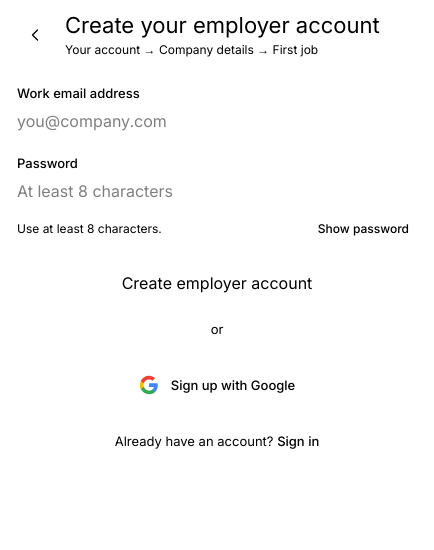
Test case: employer account signup › recovers from a network failure without leaving signup disabled
In the field labelled "Work email address": (134, 121) [17, 109, 251, 133], type "owner@example.com"
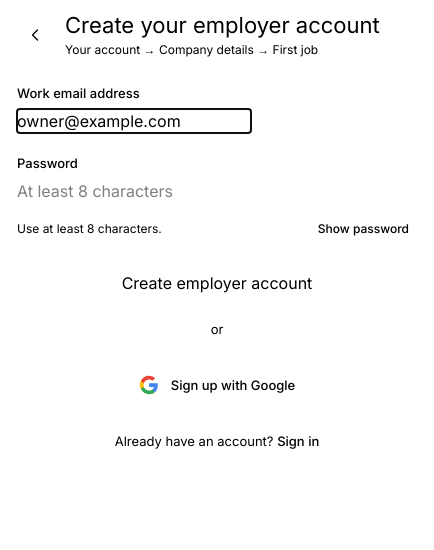
In the password field labelled "Password": (134, 191) [17, 179, 251, 203], type "secure-password"
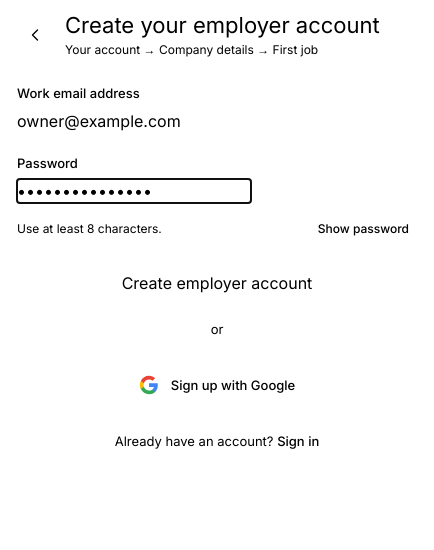
Click the button "Create employer account": (217, 283) [17, 271, 417, 295]
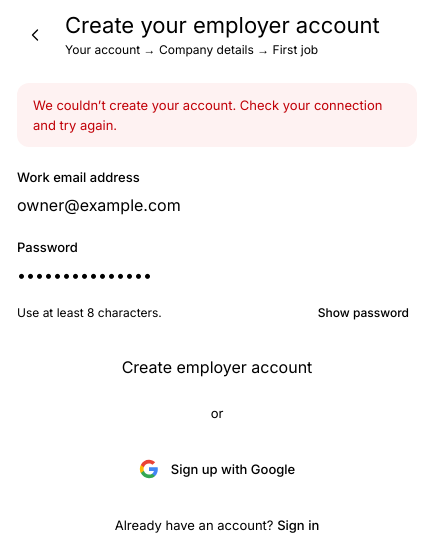
Expected: the button "Create employer account" is enabled, [17, 355, 417, 379]
Expected: the message "We couldn’t create your account. Check your connection and try again." is shown, [17, 83, 417, 147]
